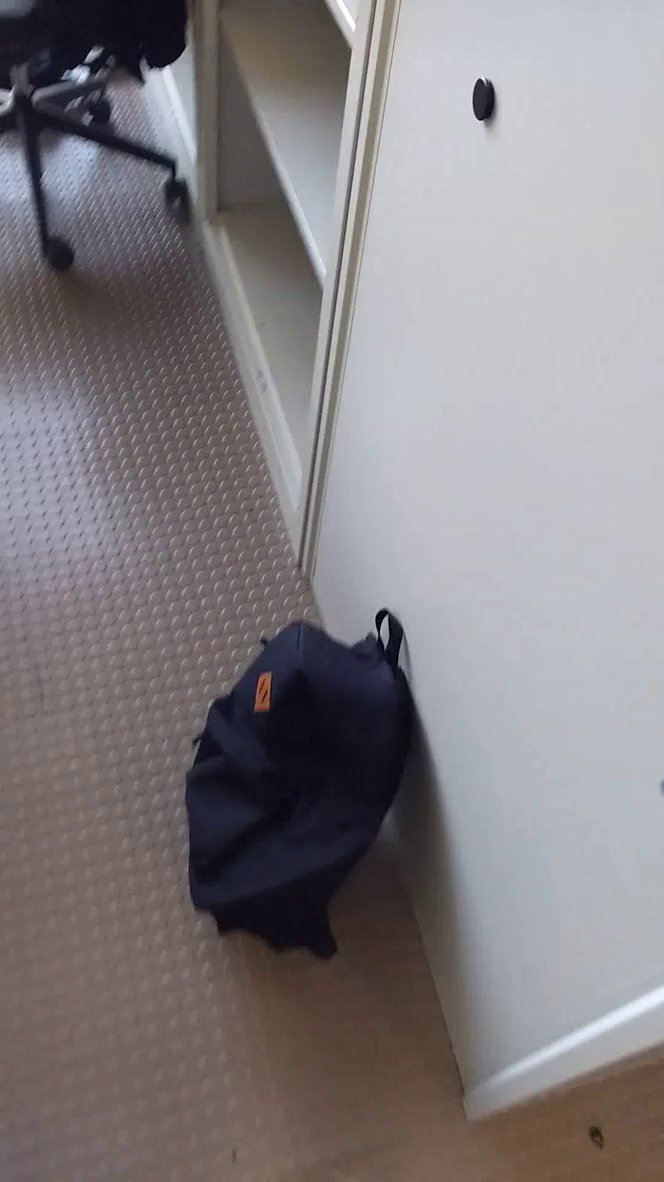bag: (166, 583, 441, 989)
